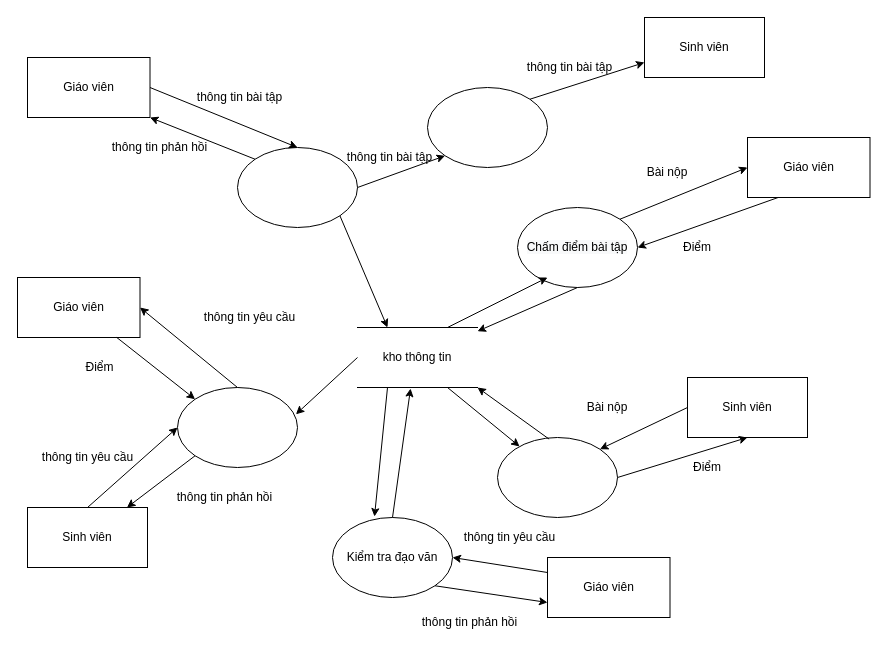
The diagram is 888 pixels wide and 650 high, and some of its shapes have lost their labels. The shapes that lost their labels are listed below. From the top down, each one's centre as x and y in pixels, then its label:
(x=487, y=127): Hiện bài tập mới
(x=297, y=187): Tạo bài tập
(x=237, y=427): Xem điểm bài tập
(x=557, y=477): Làm bài tập
